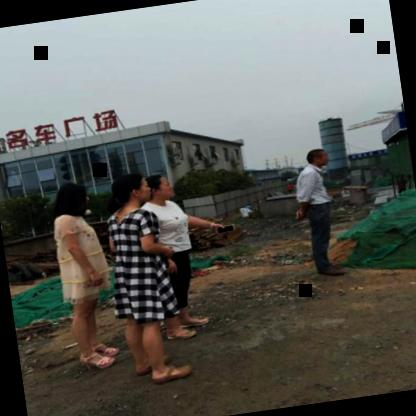head: (50, 178, 93, 228), (108, 167, 154, 213), (140, 165, 182, 205), (304, 144, 336, 170)
